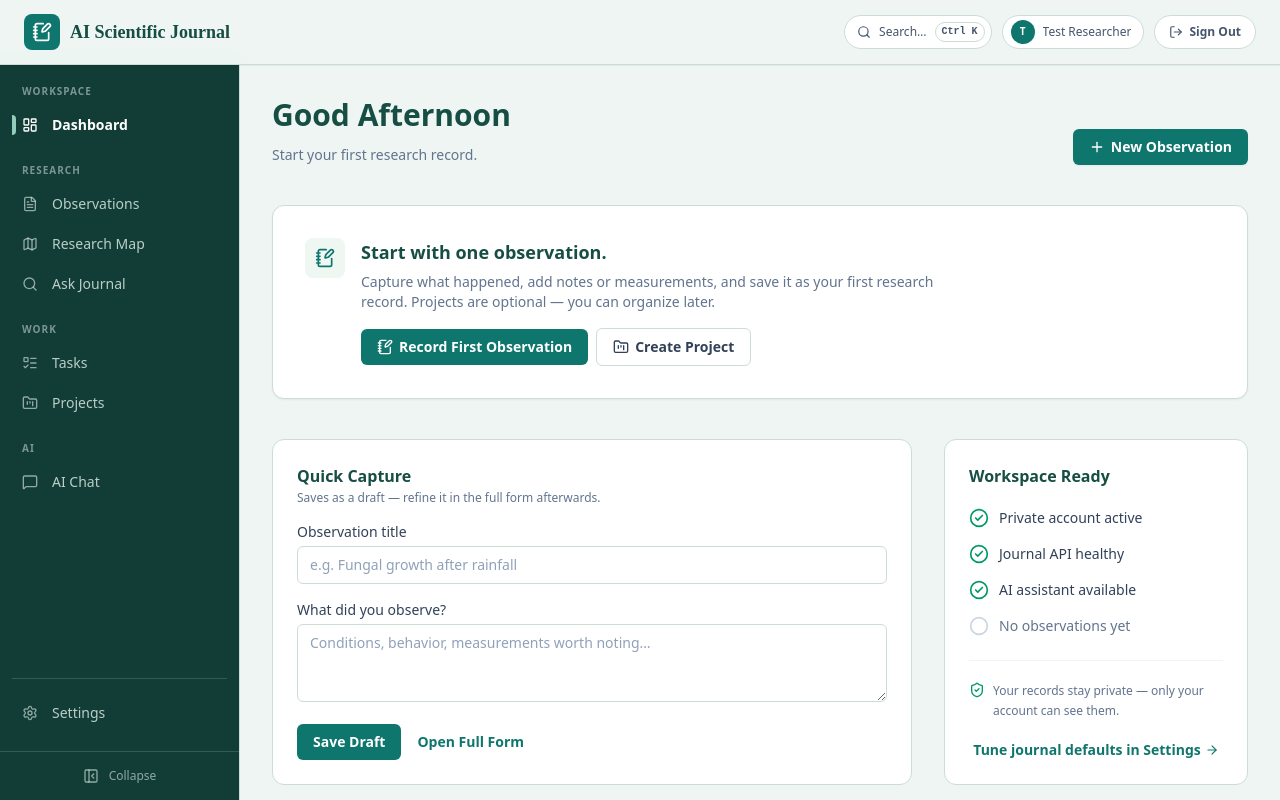
it: DashboardPage — new-user state (dashboard refactor 2026-09-07) › saves a real draft via quick capture and routes to the edit page
The image size is (1280, 800).
Step 1. Type "Fungal growth after rainfall" into the field labelled "Observation title" → {"x": 592, "y": 565}, box [297,546,887,584]
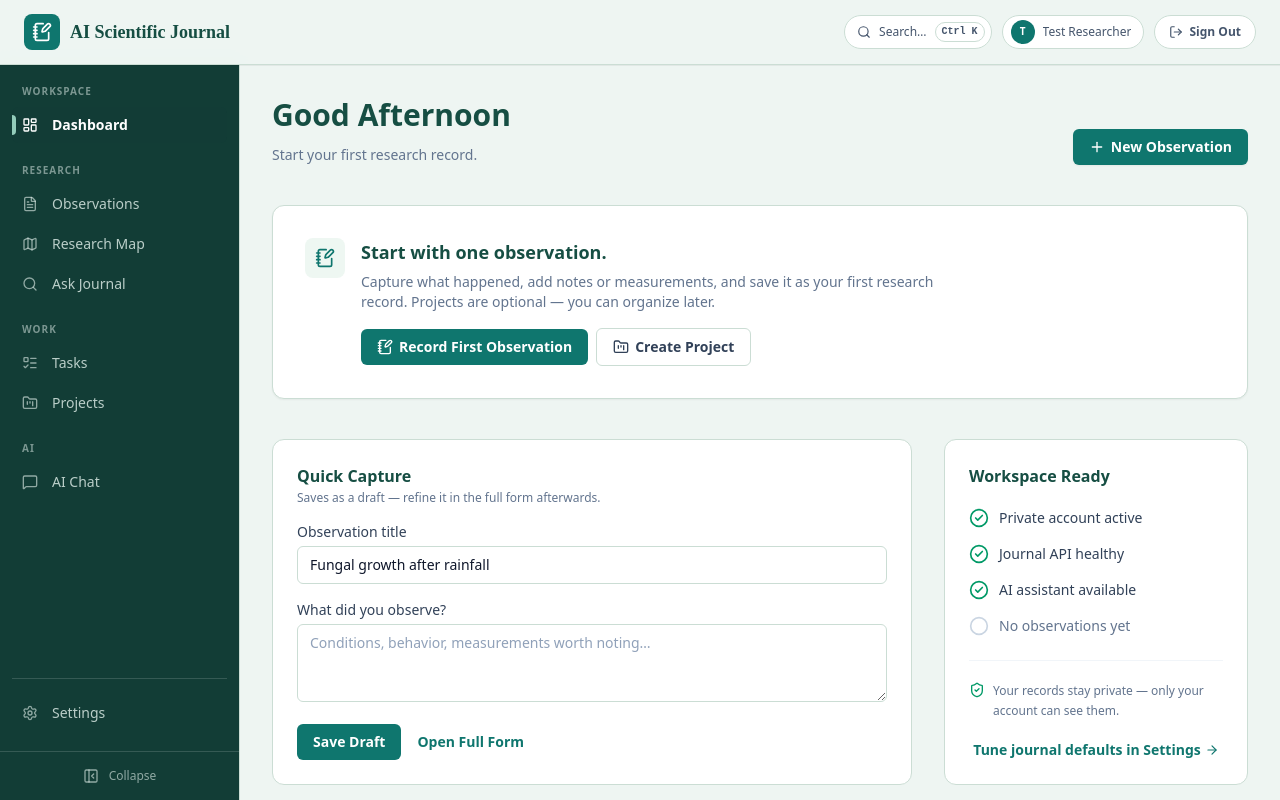
Step 2. Type "Pale caps appeared overnight near the north bed." into the text box labelled "What did you observe?" → {"x": 592, "y": 663}, box [297,624,887,702]
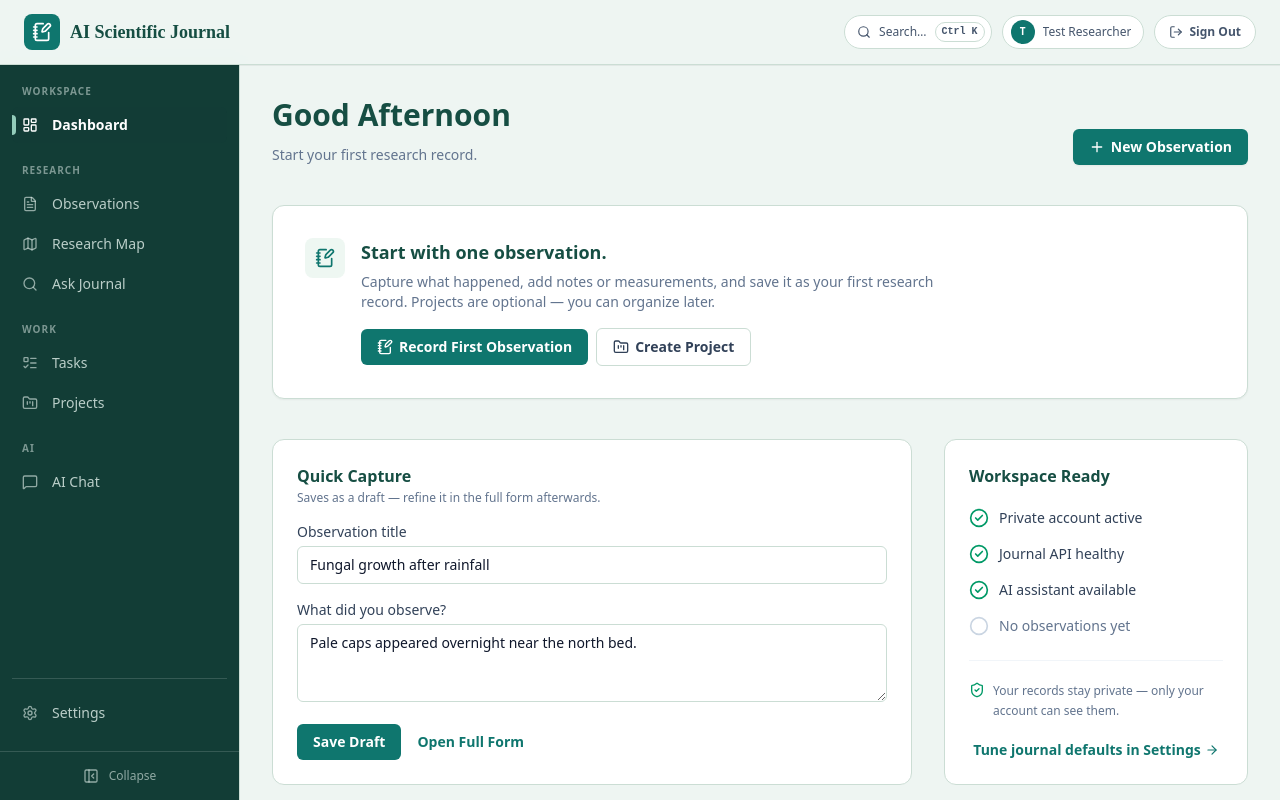
Step 3. Click the button "Save Draft" → {"x": 349, "y": 742}, box [297,724,401,760]
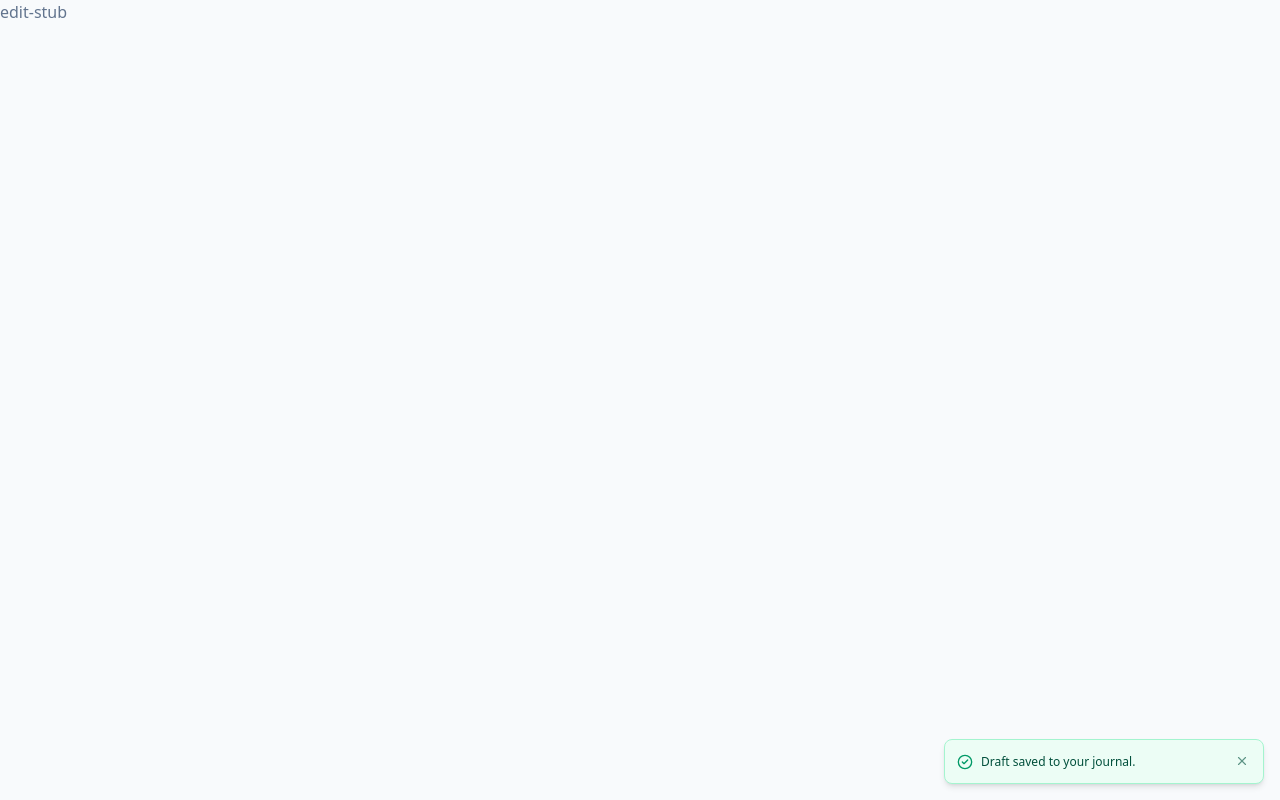
Expected: the text "edit-stub" is shown, [0,1,67,23]
